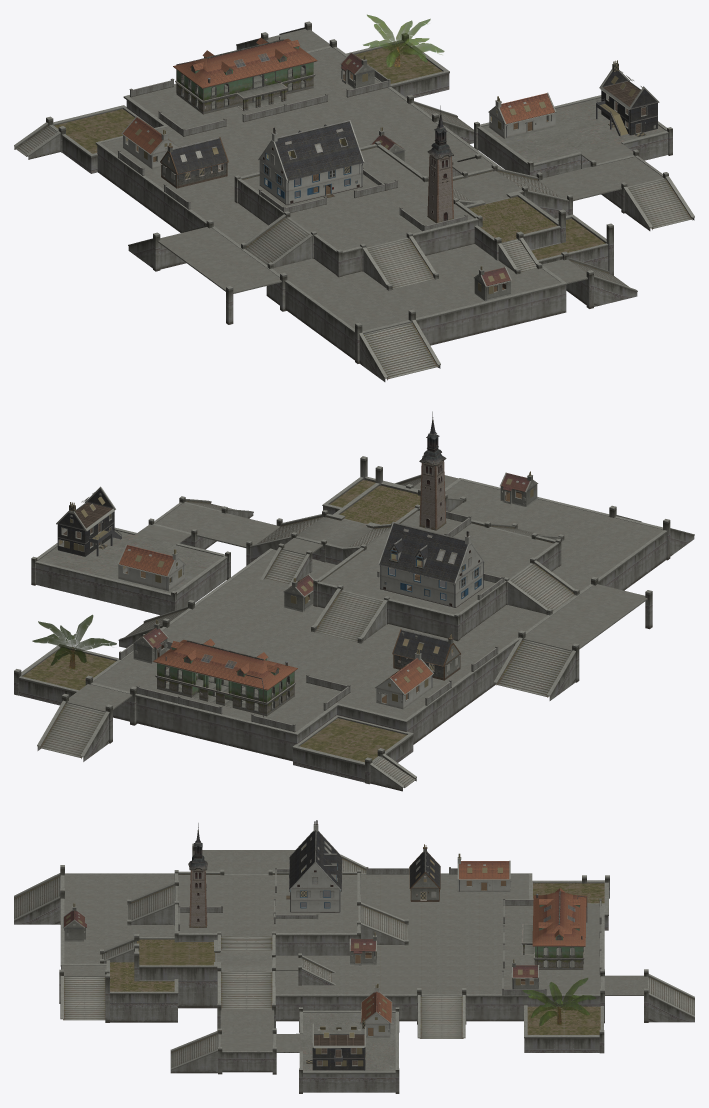
The model's file is clocktower.glb.
3 views of the same model, one above another, from view 1: azimuth 30°, elevation 25°; view 2: azimuth 150°, elevation 25°; view 3: azimuth 270°, elevation 25° (orthographic). The views are drawn at different scales.
Parts seen in each view (by area): view 1: Base_02_LOD0_0, mansion_LOD0_2, mansion_LOD0_3, Zone_A_House_Huge_A_LOD0_1, Zone_A_House_Huge_A_LOD0_2, Tower_01_LOD0_0, Mesh_0002.rip.002, Zone_A_House_Huge_A_LOD0_0, Zone_A_House_Big_B_LOD0_1, Zone_A_House_Big_B_LOD0_2, Zone_A_House_Medium_B_LOD0_3.002, Zone_A_House_Medium_A_LOD0_3 (+7 smaller); view 2: Base_02_LOD0_0, mansion_LOD0_2, mansion_LOD0_3, Zone_A_House_Huge_A_LOD0_1, Zone_A_House_Huge_A_LOD0_2, Tower_01_LOD0_0, Zone_A_House_Huge_A_LOD0_0, Zone_A_House_Big_B_LOD0_1, Mesh_0002.rip.002, Zone_A_House_Big_B_LOD0_2, Zone_A_House_Medium_B_LOD0_3.002, Zone_A_House_Medium_A_LOD0_3 (+8 smaller); view 3: Base_02_LOD0_0, mansion_LOD0_2, Zone_A_House_Huge_A_LOD0_1, Zone_A_House_Huge_A_LOD0_2, Zone_A_House_Big_B_LOD0_1, Tower_01_LOD0_0, mansion_LOD0_3, Mesh_0002.rip.002, Zone_A_House_Huge_A_LOD0_0, Zone_A_House_Big_B_LOD0_2, Zone_A_House_Medium_A_LOD0_3.007, Zone_A_House_Medium_B_LOD0_3.002 (+6 smaller).
Boxes of the visible parts, bbox=[...] form: Base_02_LOD0_0: bbox=[14, 21, 694, 381]; mansion_LOD0_2: bbox=[173, 37, 317, 109]; mansion_LOD0_3: bbox=[175, 37, 316, 114]; Zone_A_House_Huge_A_LOD0_1: bbox=[275, 120, 363, 180]; Zone_A_House_Huge_A_LOD0_2: bbox=[259, 133, 362, 204]; Tower_01_LOD0_0: bbox=[427, 105, 453, 223]; Mesh_0002.rip.002: bbox=[363, 14, 444, 67]; Zone_A_House_Huge_A_LOD0_0: bbox=[258, 120, 364, 205]; Zone_A_House_Big_B_LOD0_1: bbox=[596, 60, 659, 136]; Zone_A_House_Big_B_LOD0_2: bbox=[601, 63, 657, 136]; Zone_A_House_Medium_B_LOD0_3.002: bbox=[170, 137, 227, 178]; Zone_A_House_Medium_A_LOD0_3: bbox=[500, 93, 554, 123]; Base_02_LOD0_0: bbox=[14, 456, 694, 791]; mansion_LOD0_2: bbox=[153, 639, 297, 706]; mansion_LOD0_3: bbox=[154, 645, 295, 717]; Zone_A_House_Huge_A_LOD0_1: bbox=[379, 522, 467, 582]; Zone_A_House_Huge_A_LOD0_2: bbox=[380, 535, 482, 607]; Tower_01_LOD0_0: bbox=[419, 411, 446, 530]; Zone_A_House_Huge_A_LOD0_0: bbox=[378, 522, 484, 607]; Zone_A_House_Big_B_LOD0_1: bbox=[56, 486, 121, 556]; Mesh_0002.rip.002: bbox=[32, 614, 116, 668]; Zone_A_House_Big_B_LOD0_2: bbox=[58, 489, 114, 556]; Zone_A_House_Medium_B_LOD0_3.002: bbox=[393, 629, 450, 670]; Zone_A_House_Medium_A_LOD0_3: bbox=[119, 545, 174, 576]; Base_02_LOD0_0: bbox=[14, 843, 694, 1093]; mansion_LOD0_2: bbox=[523, 888, 586, 954]; Zone_A_House_Huge_A_LOD0_1: bbox=[289, 830, 341, 896]; Zone_A_House_Huge_A_LOD0_2: bbox=[291, 824, 339, 912]; Zone_A_House_Big_B_LOD0_1: bbox=[311, 1018, 365, 1070]; Tower_01_LOD0_0: bbox=[188, 823, 207, 927]; mansion_LOD0_3: bbox=[521, 893, 587, 969]; Mesh_0002.rip.002: bbox=[522, 977, 596, 1026]; Zone_A_House_Huge_A_LOD0_0: bbox=[286, 820, 342, 912]; Zone_A_House_Big_B_LOD0_2: bbox=[306, 1020, 365, 1070]; Zone_A_House_Medium_A_LOD0_3.007: bbox=[459, 861, 509, 879]; Zone_A_House_Medium_B_LOD0_3.002: bbox=[410, 851, 440, 899].
Size of the model in its own units: 87.25 by 27.57 by 114.
Materials: 38 (38 with a texture image).
